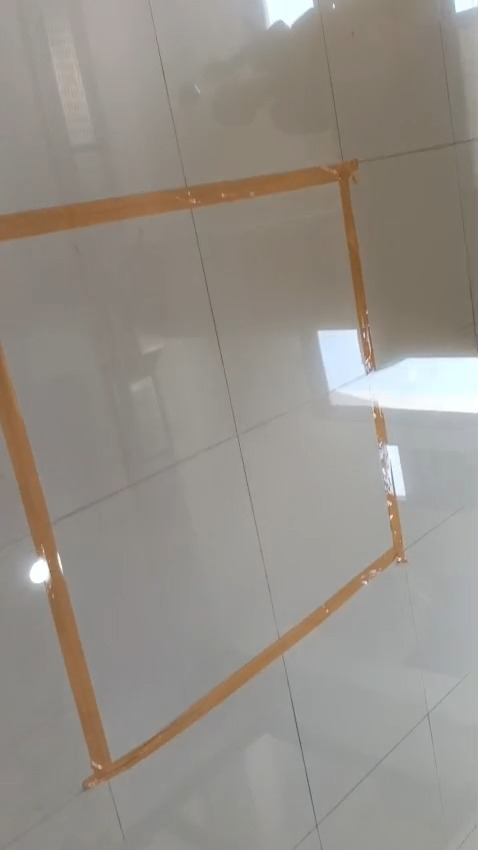floor marking: (0, 349, 403, 788), (0, 160, 375, 371)
